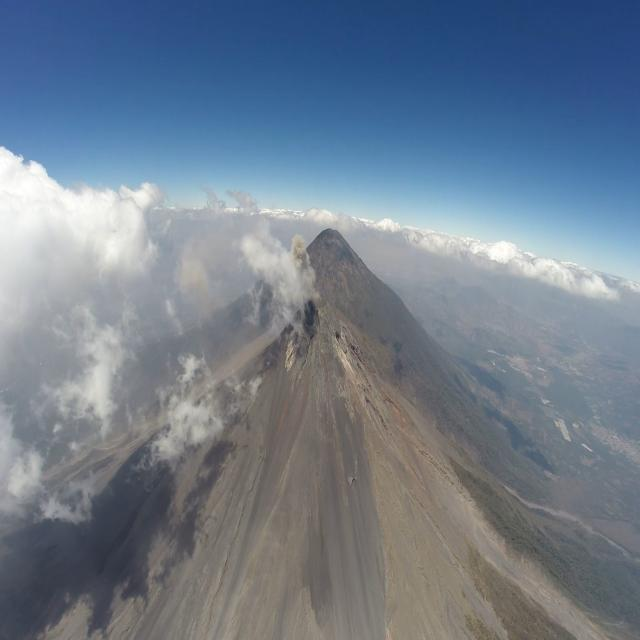Plume: (288, 229, 316, 292)
Summit: (259, 294, 381, 376)
